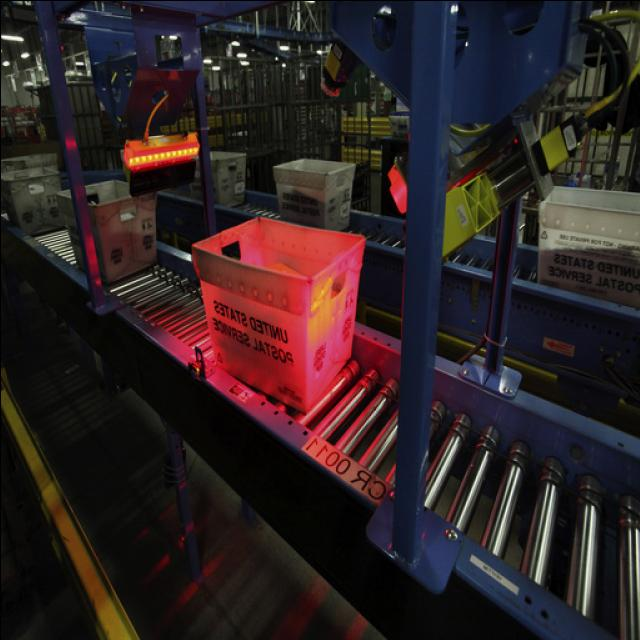conveyor: (3, 199, 640, 640)
